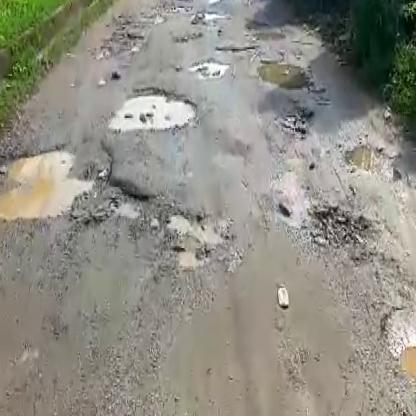pothole: (0, 144, 130, 226), (165, 203, 235, 277), (110, 84, 199, 137), (310, 201, 386, 258), (343, 140, 403, 179), (255, 58, 318, 95), (389, 336, 416, 397), (191, 59, 231, 79), (195, 7, 226, 21)
